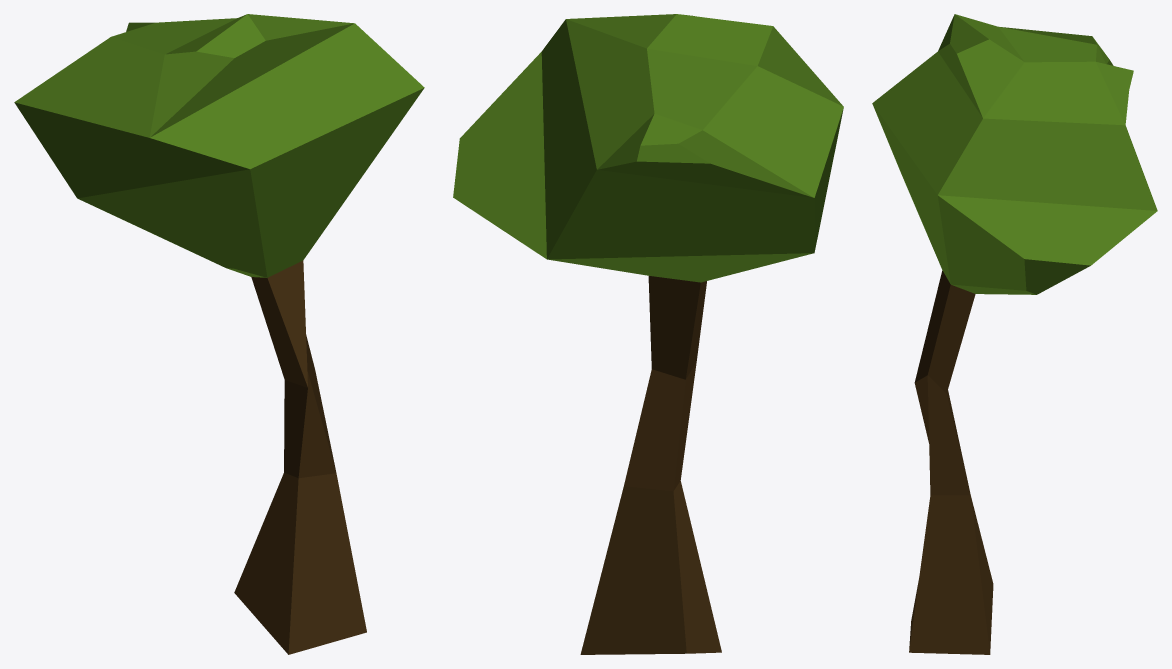
The model's file is Tree.glb.
3 views of the same model, side by side, from view 1: azimuth 30°, elevation 25°; view 2: azimuth 150°, elevation 25°; view 3: azimuth 270°, elevation 25° (orthographic). The views are drawn at different scales.
Parts seen in each view (by area): view 1: Tree; view 2: Tree; view 3: Tree.
Part boxes in pixels (x1,y1,x2,y2): Tree: [14, 14, 424, 654]; Tree: [453, 14, 843, 654]; Tree: [872, 14, 1157, 654].
Bounding box in the file's own units: 4.82 × 7.85 × 3.49.
